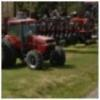tractors: (2, 16, 66, 70)
